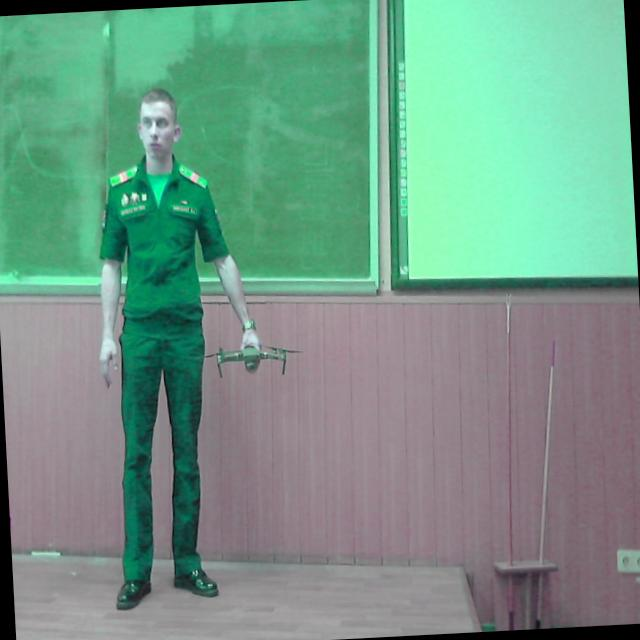drone: (206, 316, 311, 386)
